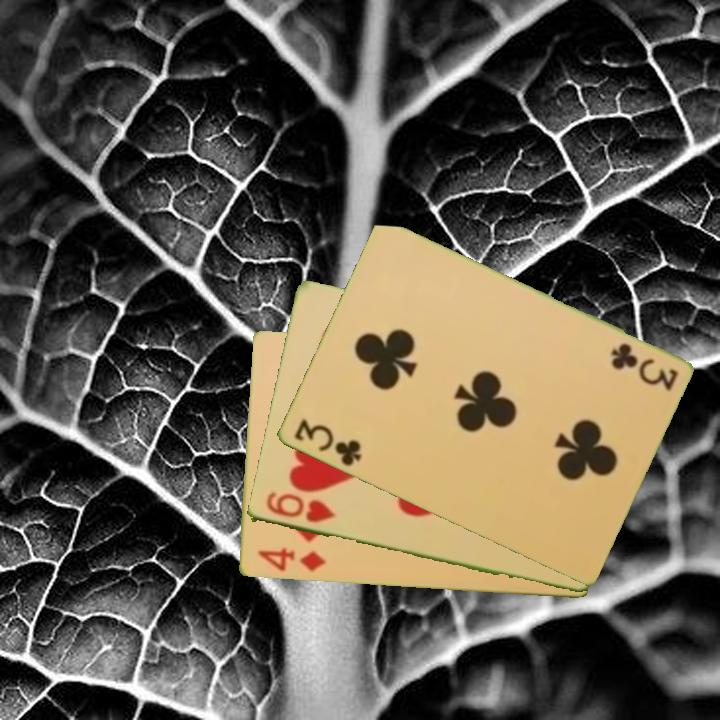3c: (290, 415, 364, 470), (606, 339, 680, 393)
4d: (253, 544, 328, 574)
6h: (262, 489, 338, 526)
